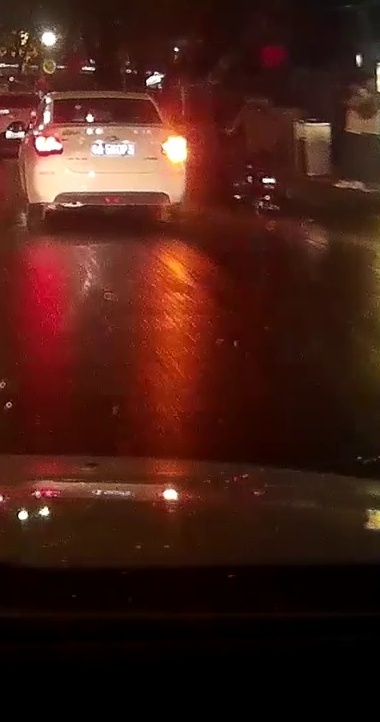L_light: (32, 135, 64, 155)
R_light: (160, 137, 186, 156)
T_light: (90, 96, 114, 103)
night-right: (26, 90, 187, 224)
